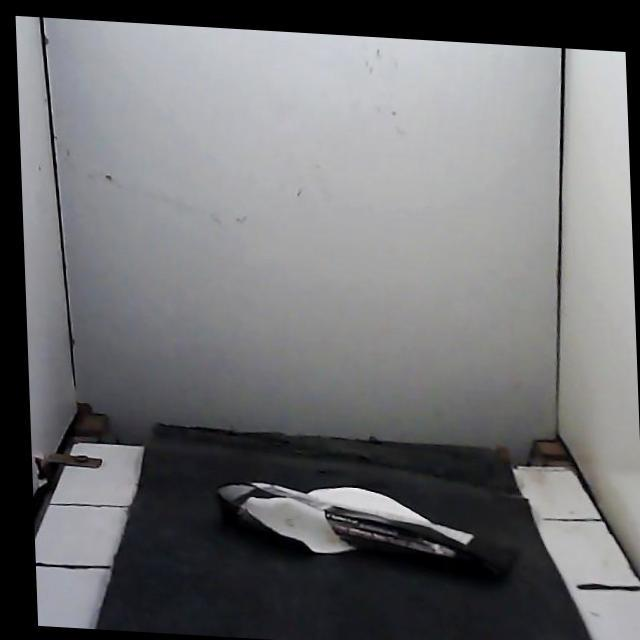plastico: (218, 482, 516, 575)
